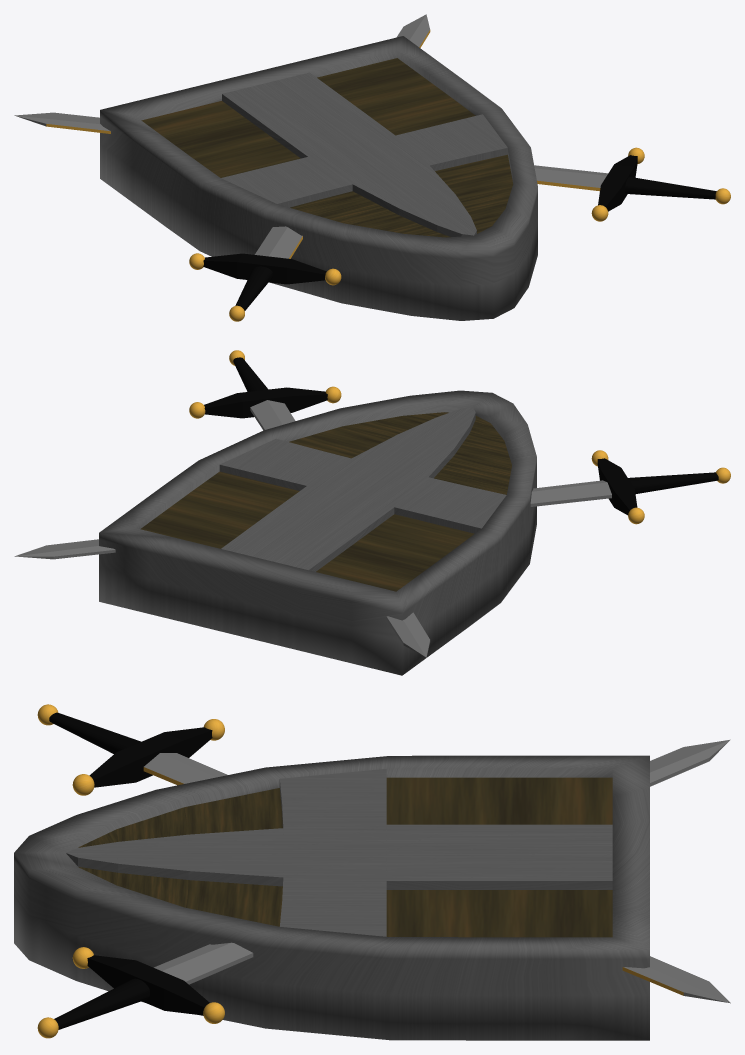
Rendered from shieldAndSword2.fbx.
3 views of the same model, one above another, from view 1: azimuth 30°, elevation 25°; view 2: azimuth 150°, elevation 25°; view 3: azimuth 270°, elevation 25° (orthographic). The views are drawn at different scales.
Parts seen in each view (by area): view 1: Sphere.001; view 2: Sphere.001; view 3: Sphere.001.
Boxes of the visible parts, x1,y1,x2,y2 form: Sphere.001: (14, 14, 730, 321); Sphere.001: (14, 350, 730, 675); Sphere.001: (14, 704, 730, 1040).
Bounding box in the file's own units: 380 × 50 × 359.
